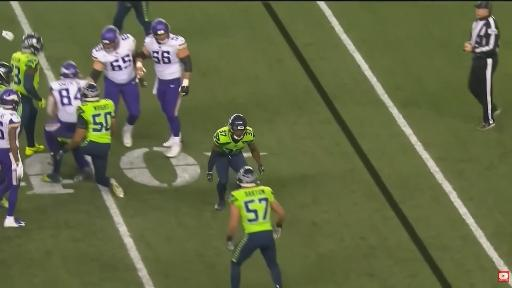Helmet: (228, 114, 247, 141), (21, 33, 44, 55), (101, 26, 119, 52), (0, 88, 20, 110), (151, 19, 169, 43), (237, 167, 258, 186), (81, 83, 100, 101), (60, 61, 79, 78), (0, 62, 13, 86)
Jersey: (92, 34, 136, 83), (229, 186, 274, 233), (144, 34, 186, 79), (77, 99, 114, 143), (50, 79, 87, 123), (11, 52, 39, 95), (214, 126, 254, 154), (0, 108, 20, 148), (0, 85, 6, 90)
Player: (55, 83, 123, 197), (136, 19, 191, 157), (227, 167, 285, 287), (90, 26, 140, 147), (207, 114, 264, 210), (11, 34, 45, 155), (44, 61, 87, 156), (0, 88, 25, 227), (113, 2, 151, 35), (0, 62, 13, 89), (0, 62, 12, 90), (2, 30, 14, 41)
